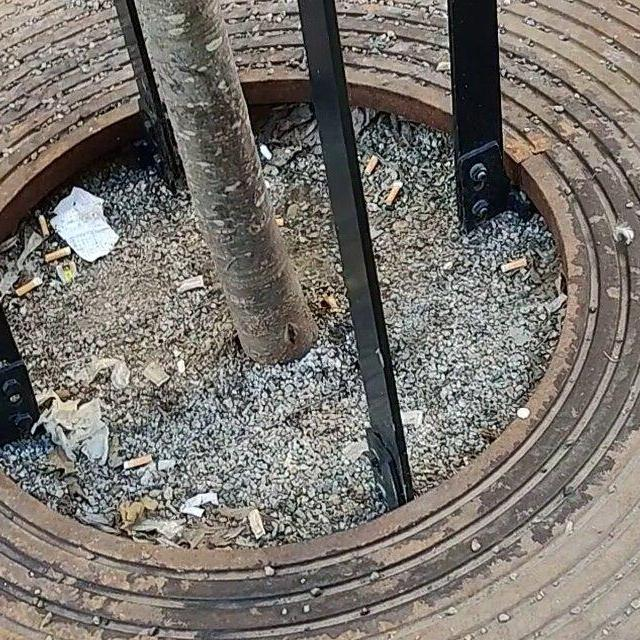Cigarette Butt: (14, 279, 43, 301), (126, 450, 151, 473), (361, 151, 382, 176), (502, 256, 527, 274), (46, 244, 71, 261), (388, 178, 402, 206), (35, 210, 51, 232)
